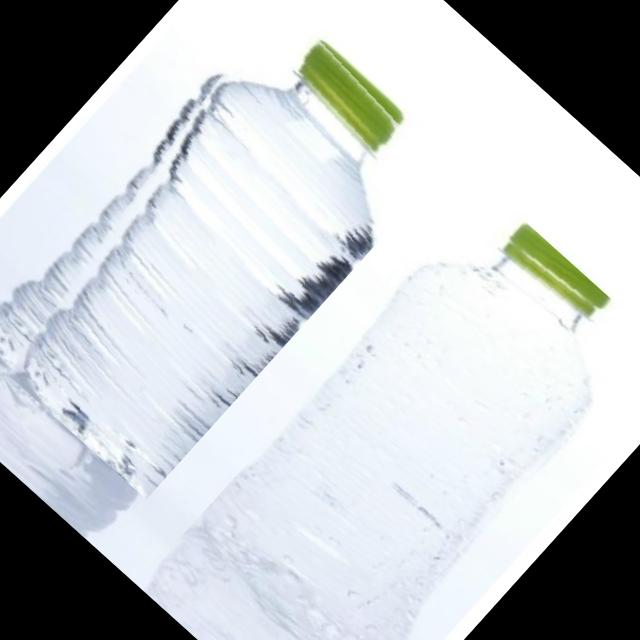plastic bottle: (0, 0, 454, 499), (179, 191, 640, 640)
